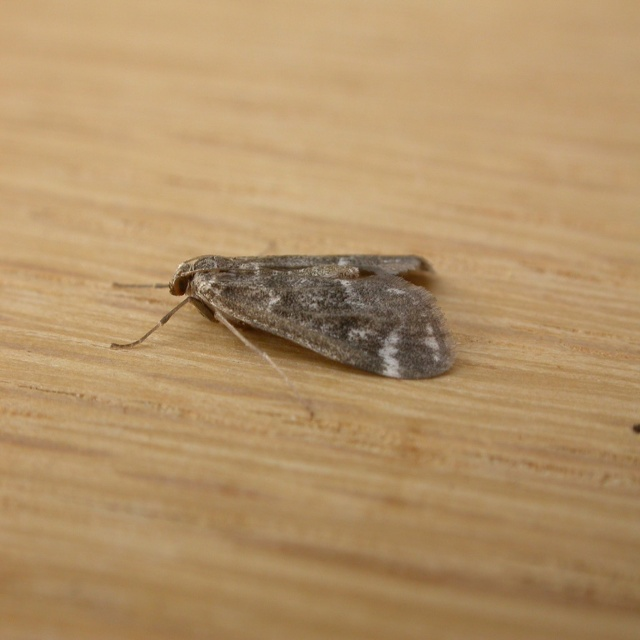Moths and butterflies: (110, 250, 463, 399)
